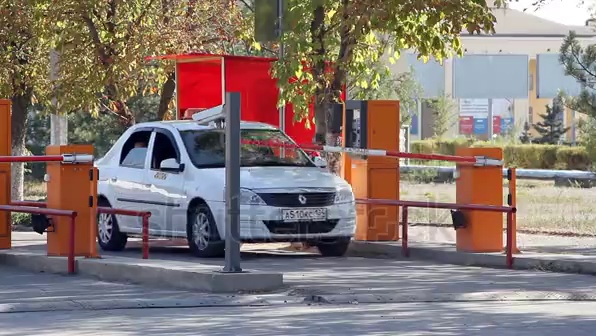licenseplate: (280, 206, 332, 224)
